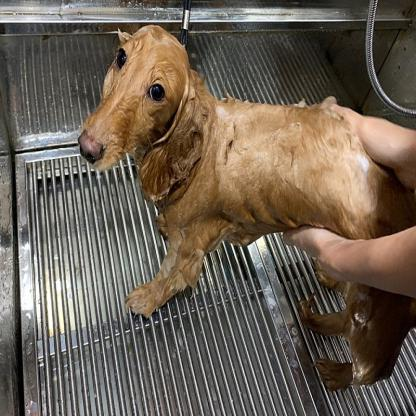dog: (66, 18, 310, 319)
